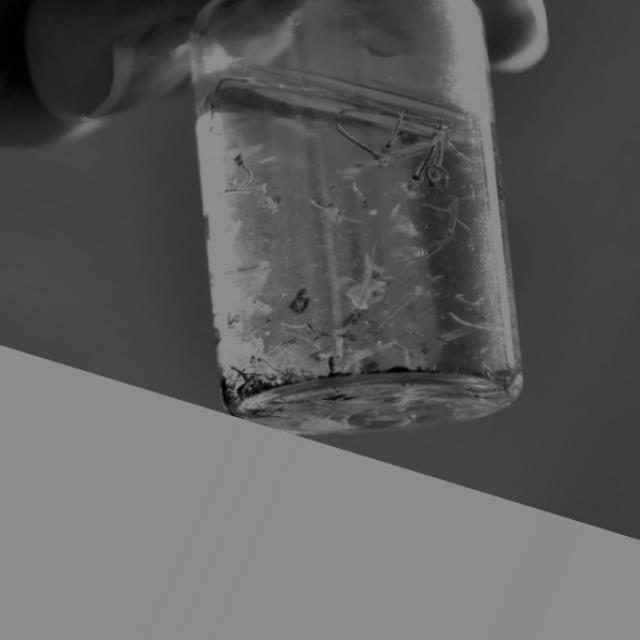larvas: (208, 71, 248, 116), (410, 145, 434, 184), (448, 132, 474, 165), (229, 152, 250, 184), (385, 111, 404, 146), (393, 141, 425, 159), (224, 182, 270, 192), (428, 236, 454, 251), (446, 204, 459, 233), (257, 198, 278, 215), (436, 160, 447, 190), (353, 184, 367, 207), (425, 163, 435, 186), (436, 135, 442, 164)
